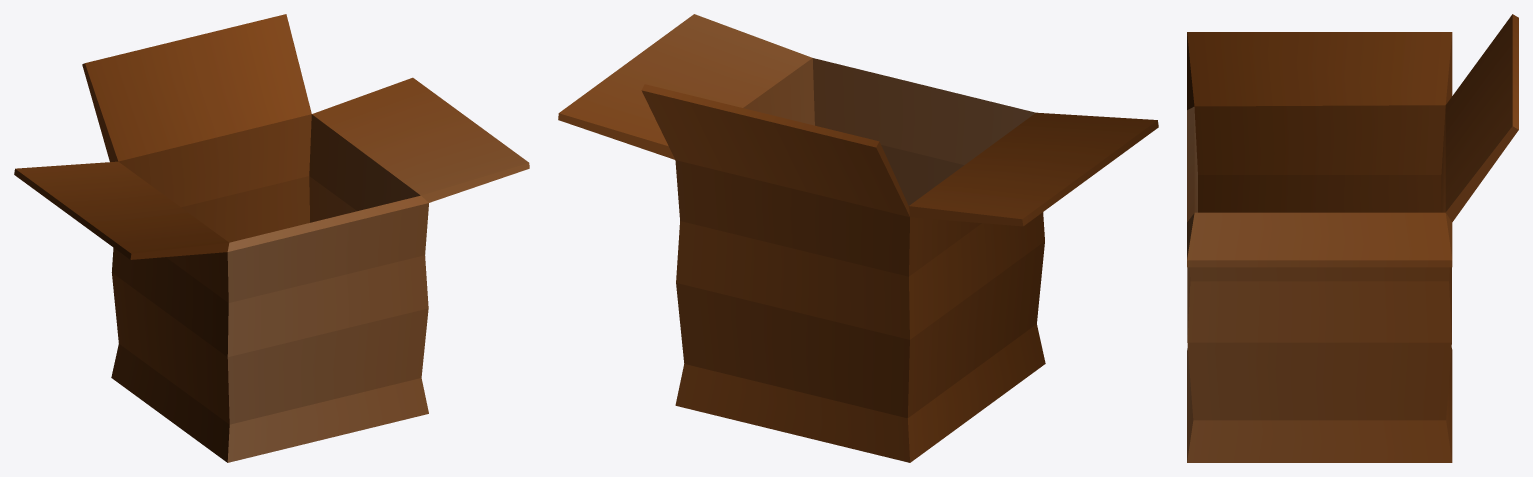
The model's file is carton.fbx.
3 views of the same model, side by side, from view 1: azimuth 30°, elevation 25°; view 2: azimuth 150°, elevation 25°; view 3: azimuth 270°, elevation 25° (orthographic). The views are drawn at different scales.
Parts seen in each view (by area): view 1: carton; view 2: carton; view 3: carton.
Boxes of the visible parts, box(x1,y1,x2,y2) form: carton: box(14, 14, 529, 462); carton: box(558, 14, 1158, 462); carton: box(1187, 14, 1518, 462).
Bounding box in the file's own units: 76.98 × 54.41 × 48.58.
